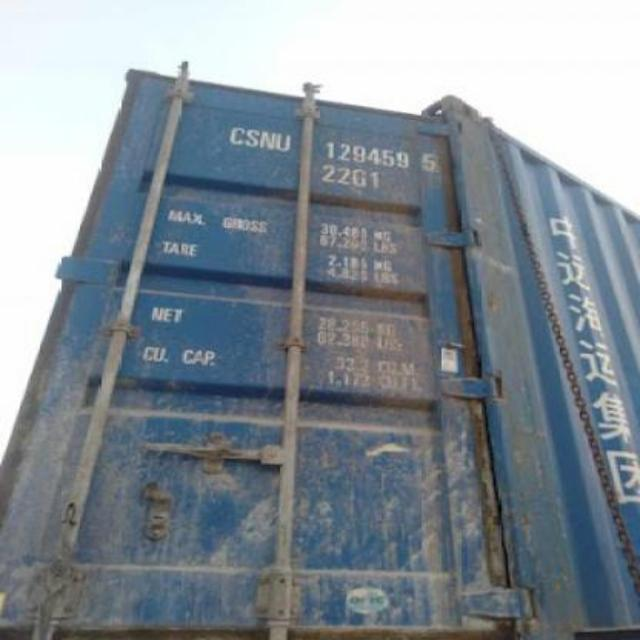1: (324, 136, 336, 160)
2: (336, 136, 349, 164)
4: (368, 140, 380, 170)
5: (382, 138, 394, 172), (422, 150, 438, 173)
9: (394, 146, 410, 172), (352, 140, 366, 168)
C: (230, 122, 243, 144)
N: (259, 121, 275, 153)
S: (244, 121, 260, 151)
U: (276, 122, 292, 156)
